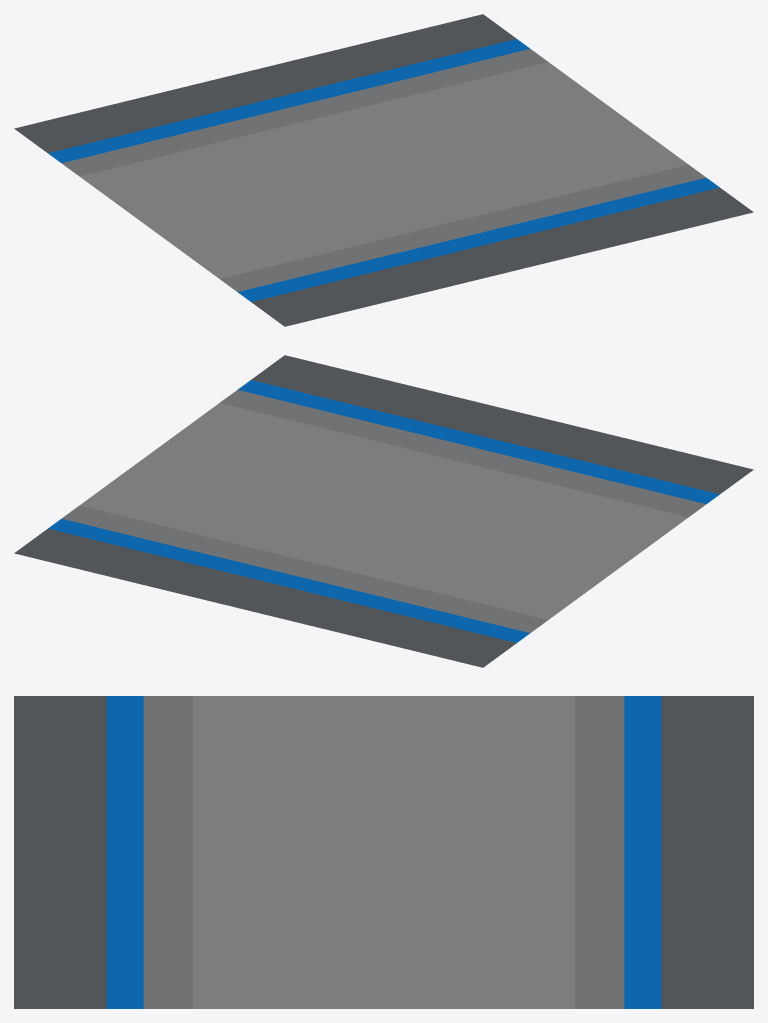
Rendered from Ceiling_type_B_030.fbx.
3 views of the same model, one above another, from view 1: azimuth 30°, elevation 25°; view 2: azimuth 150°, elevation 25°; view 3: azimuth 270°, elevation 25° (orthographic). The views are drawn at different scales.
Visible parts, largest first — view 1: Ceiling_type_B_030; view 2: Ceiling_type_B_030; view 3: Ceiling_type_B_030.
Boxes of the visible parts, <box> form: Ceiling_type_B_030: <box>14,14,753,326</box>; Ceiling_type_B_030: <box>14,355,753,667</box>; Ceiling_type_B_030: <box>14,696,753,1008</box>.
Bounding box in the file's own units: 400 × 400 × 6.18.
